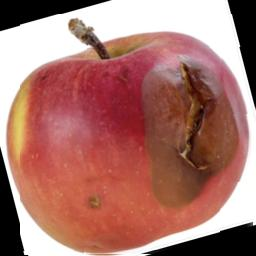Apple Rotten: (20, 15, 256, 256)
